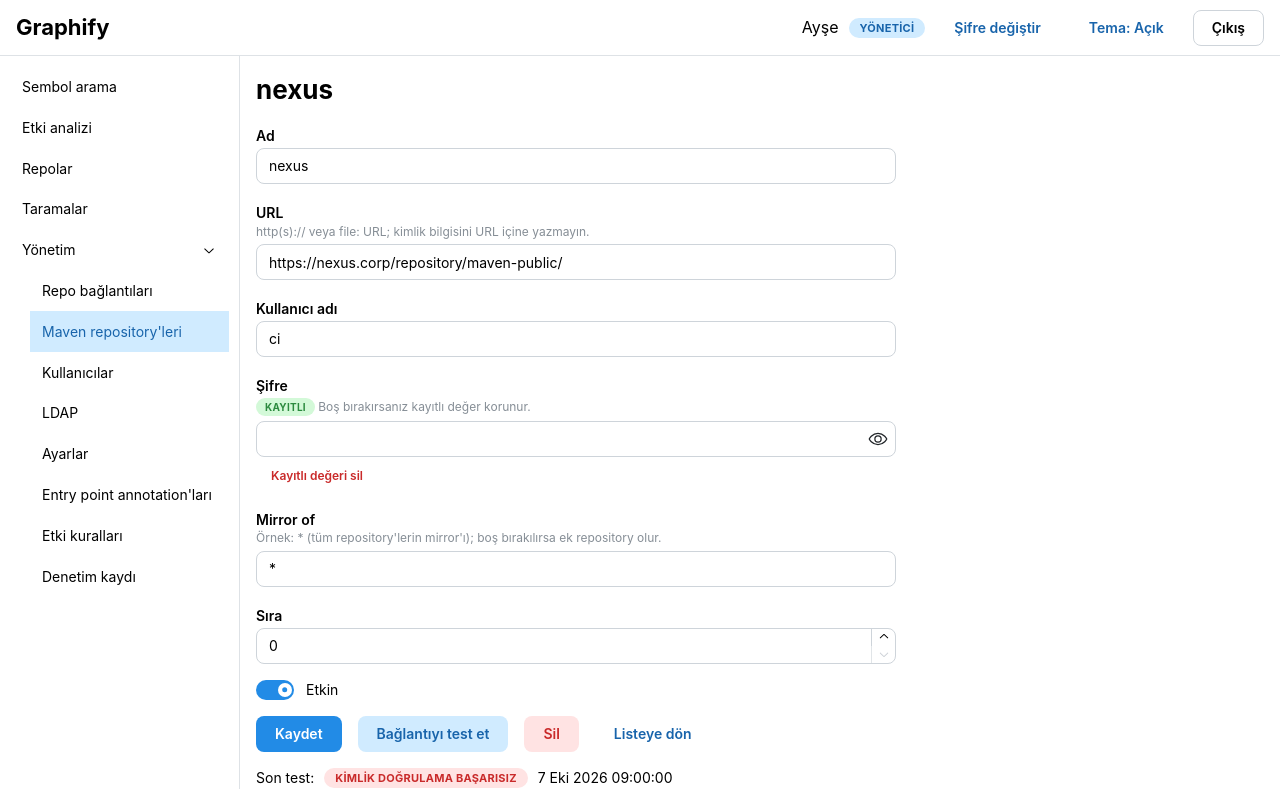
Test: Maven repositories › asks for the password again when the URL changes
This screenshot has width=1280, height=789.
Type "x" into the field labelled "URL".
click(576, 262); type("x")  # box [256,244,896,280]
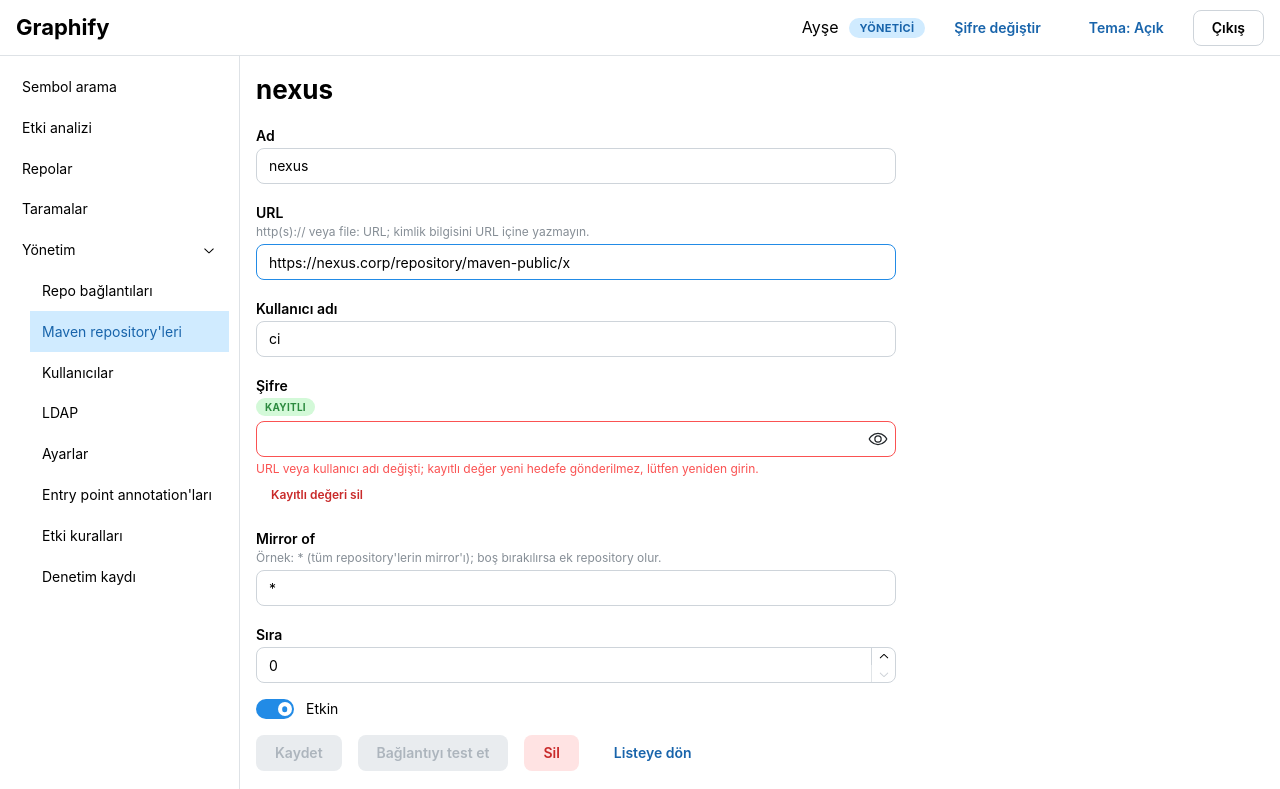
Expected: the button "Kaydet" is disabled, [256,735,342,771]
Expected: the button "Bağlantıyı test et" is disabled, [358,735,508,771]
